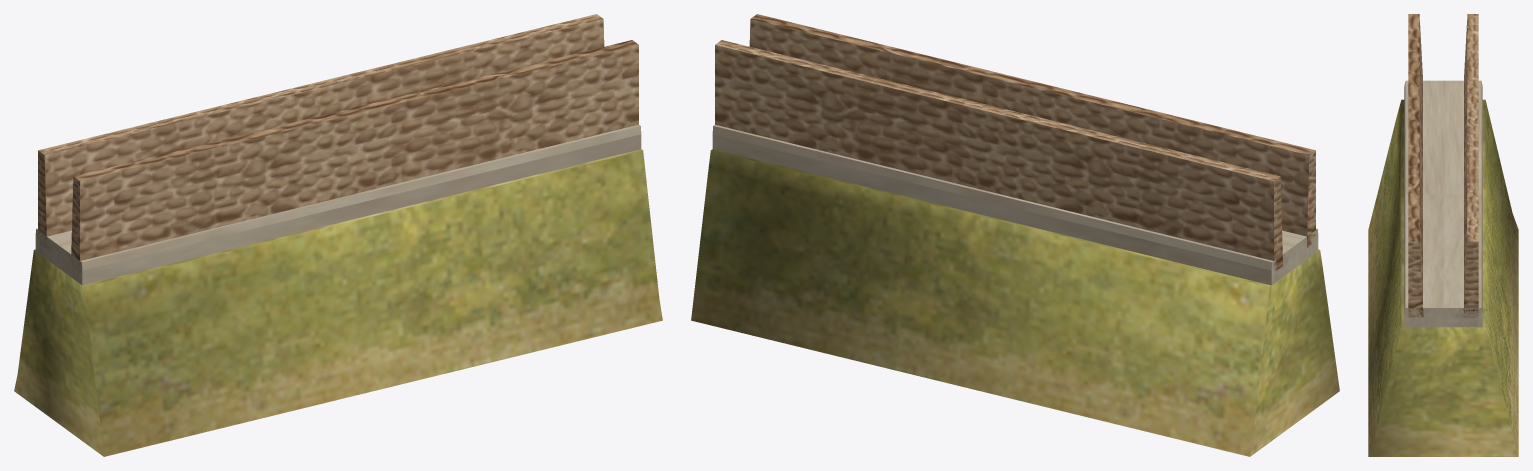
Rendered from maya_wall_med.dae.
3 renders of one model, left to right at view 1: azimuth 30°, elevation 25°; view 2: azimuth 150°, elevation 25°; view 3: azimuth 270°, elevation 25°, orthographic. The views are drawn at different scales.
Visible parts, largest first — view 1: med; view 2: med; view 3: med.
Boxes of the visible parts, x1,y1,x2,y2 form: med: [14, 14, 662, 456]; med: [691, 14, 1339, 456]; med: [1368, 14, 1518, 456].
Size of the model in its own units: 23.96 by 6.68 by 10.58.
